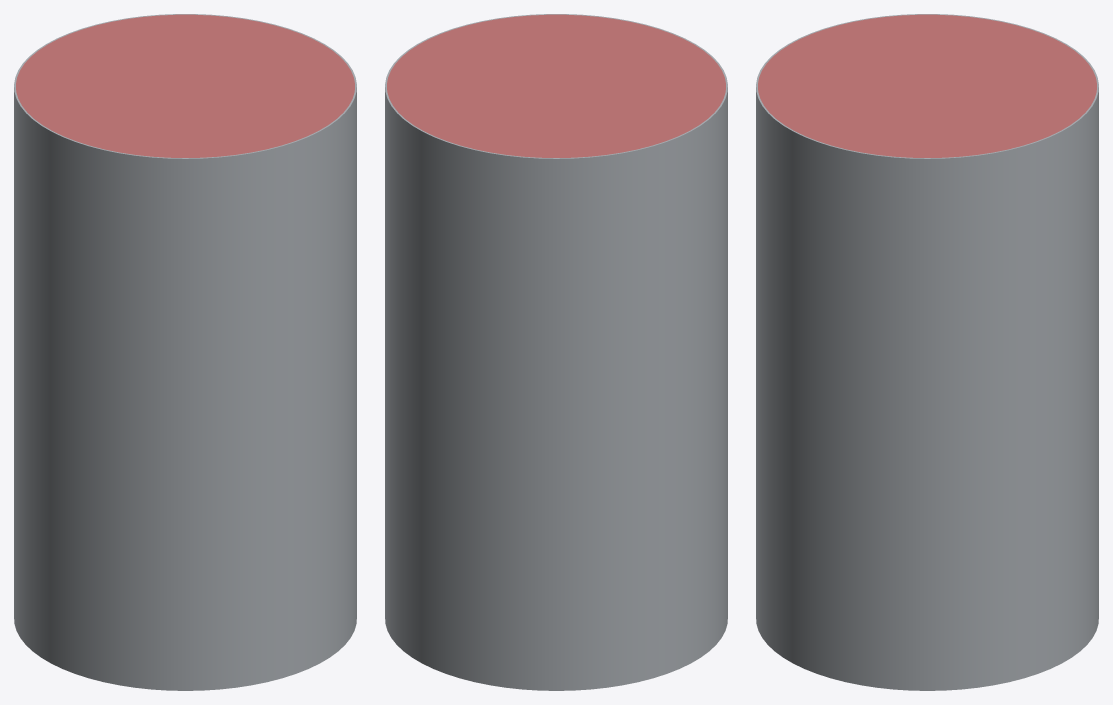
The model's file is step_02.glb.
3 views of the same model, side by side, from view 1: azimuth 30°, elevation 25°; view 2: azimuth 150°, elevation 25°; view 3: azimuth 270°, elevation 25° (orthographic).
Visible parts, largest first — view 1: part__equipment canister, removed__equipment canister; view 2: part__equipment canister, removed__equipment canister; view 3: part__equipment canister, removed__equipment canister.
Part boxes in pixels (x1,y1,x2,y2): part__equipment canister: (14, 14, 356, 690); removed__equipment canister: (16, 14, 354, 157); part__equipment canister: (385, 14, 727, 690); removed__equipment canister: (387, 14, 725, 157); part__equipment canister: (756, 14, 1098, 690); removed__equipment canister: (758, 14, 1096, 157).
Bounding box in the file's own units: 284 × 486 × 284.
